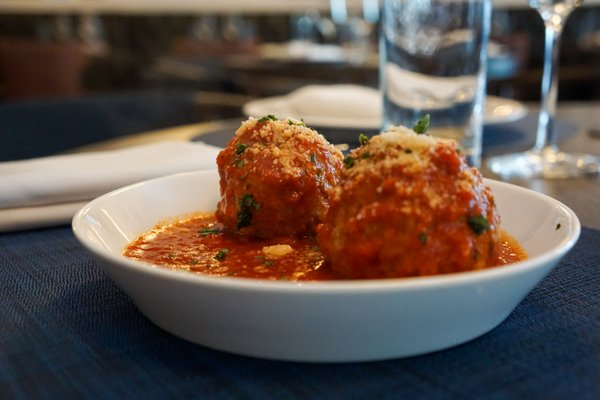sushi: (71, 154, 576, 364)
